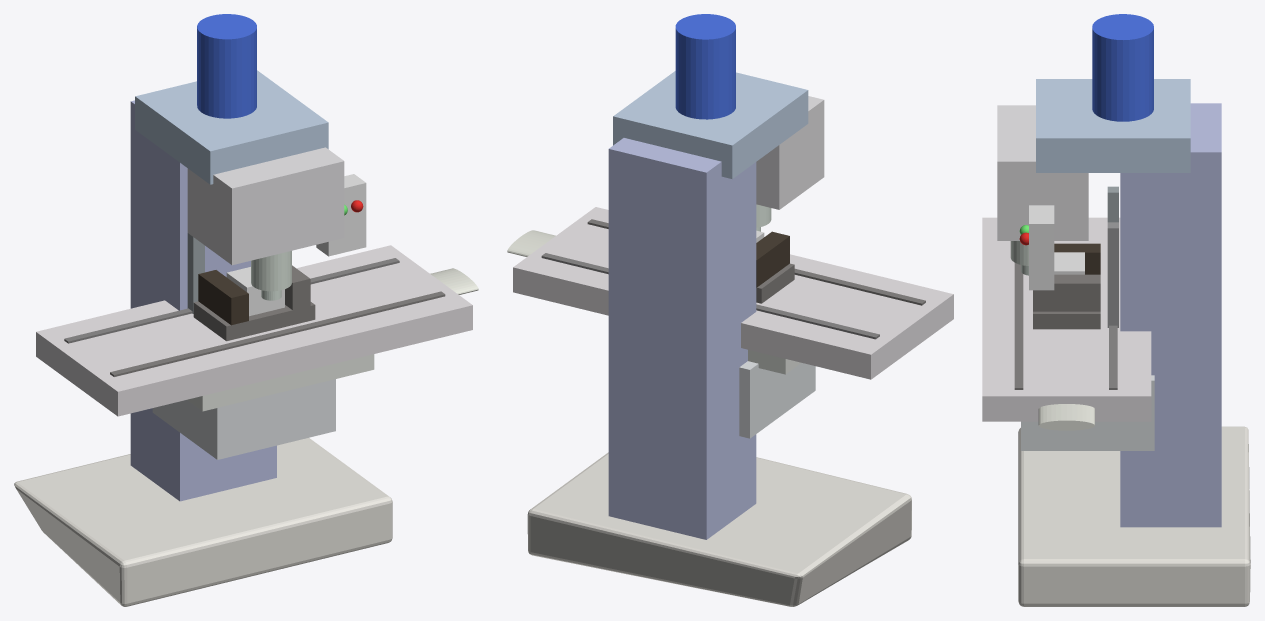
Rendered from Станок_фрезерный.fbx.
3 renders of one model, left to right at view 1: azimuth 30°, elevation 25°; view 2: azimuth 150°, elevation 25°; view 3: azimuth 270°, elevation 25°, orthographic. The views are drawn at different scales.
Visible parts, largest first — view 1: Основание, Рабочий стол, Вертикальная колонна, Шпиндельная головка, Верхняя поперечина, Консоль, Электродвигатель, Поперечные салазки, Тиски_1, Т-паз.01, Тиски_2, Панель_управления (+6 smaller); view 2: Вертикальная колонна, Основание, Рабочий стол, Верхняя поперечина, Электродвигатель, Шпиндельная головка, Консоль, Тиски_2, Т-паз.02, Т-паз.01, Тиски_1, Маховик (+1 smaller); view 3: Вертикальная колонна, Основание, Рабочий стол, Верхняя поперечина, Шпиндельная головка, Электродвигатель, Консоль, Тиски_3, Панель_управления, Маховик, Тиски_1, Правая_направляющая (+6 smaller).
Boxes of the visible parts, box(x1,y1,x2,y2) form: Основание: box(14, 438, 392, 606); Рабочий стол: box(36, 245, 472, 416); Вертикальная колонна: box(130, 100, 276, 501); Шпиндельная головка: box(187, 147, 344, 265); Верхняя поперечина: box(135, 70, 328, 184); Консоль: box(152, 379, 335, 459); Электродвигатель: box(197, 14, 256, 118); Поперечные салазки: box(187, 354, 374, 411); Тиски_1: box(193, 301, 315, 341); Т-паз.01: box(110, 291, 445, 376); Тиски_2: box(198, 270, 248, 325); Панель_управления: box(316, 174, 366, 256); Вертикальная колонна: box(608, 138, 756, 539); Основание: box(527, 452, 911, 606); Рабочий стол: box(513, 207, 953, 379); Верхняя поперечина: box(613, 71, 808, 179); Электродвигатель: box(675, 14, 735, 119); Шпиндельная головка: box(756, 96, 824, 209); Консоль: box(739, 361, 815, 438); Тиски_2: box(756, 231, 789, 287); Т-паз.02: box(541, 253, 879, 339); Т-паз.01: box(587, 219, 925, 305); Тиски_1: box(756, 263, 794, 303); Маховик: box(507, 230, 555, 256); Вертикальная колонна: box(1120, 103, 1221, 527); Основание: box(1018, 426, 1250, 606); Рабочий стол: box(982, 217, 1151, 421); Верхняя поперечина: box(1036, 79, 1190, 172); Шпиндельная головка: box(997, 105, 1088, 240); Электродвигатель: box(1092, 14, 1153, 121); Консоль: box(1021, 375, 1154, 450); Тиски_3: box(1033, 274, 1100, 311); Панель_управления: box(1029, 205, 1054, 290); Маховик: box(1038, 404, 1094, 430); Тиски_1: box(1033, 311, 1100, 329); Правая_направляющая: box(1107, 222, 1118, 327).
Bounding box in the file's own units: 328 × 411 × 191.
